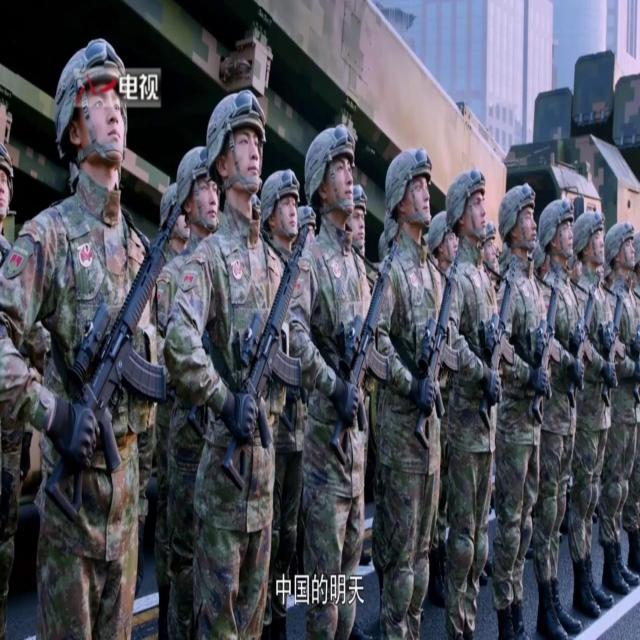Soldier: (8, 44, 141, 626), (172, 90, 281, 600), (297, 128, 371, 572), (368, 133, 436, 595), (441, 163, 491, 571), (495, 184, 544, 597), (575, 207, 612, 545), (540, 188, 568, 581), (611, 207, 640, 497)
